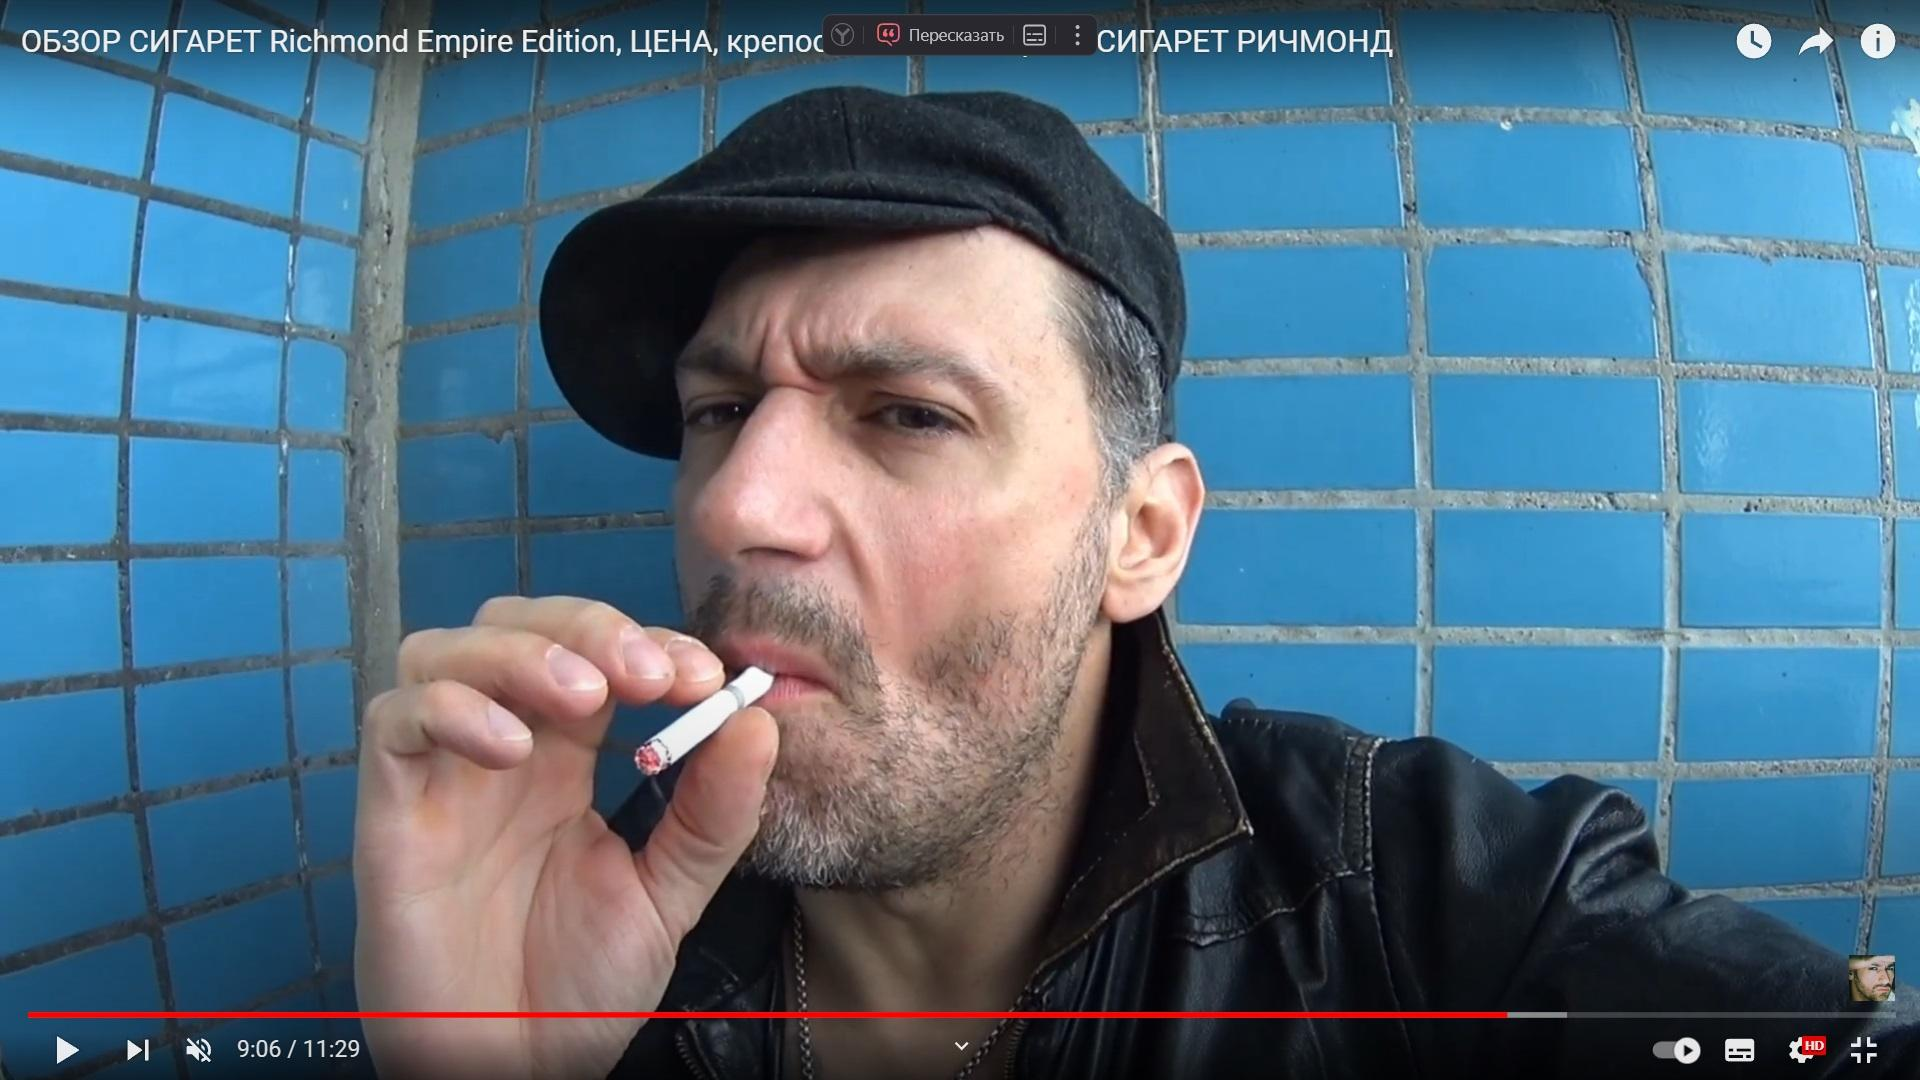cigarette: (634, 667, 773, 777)
